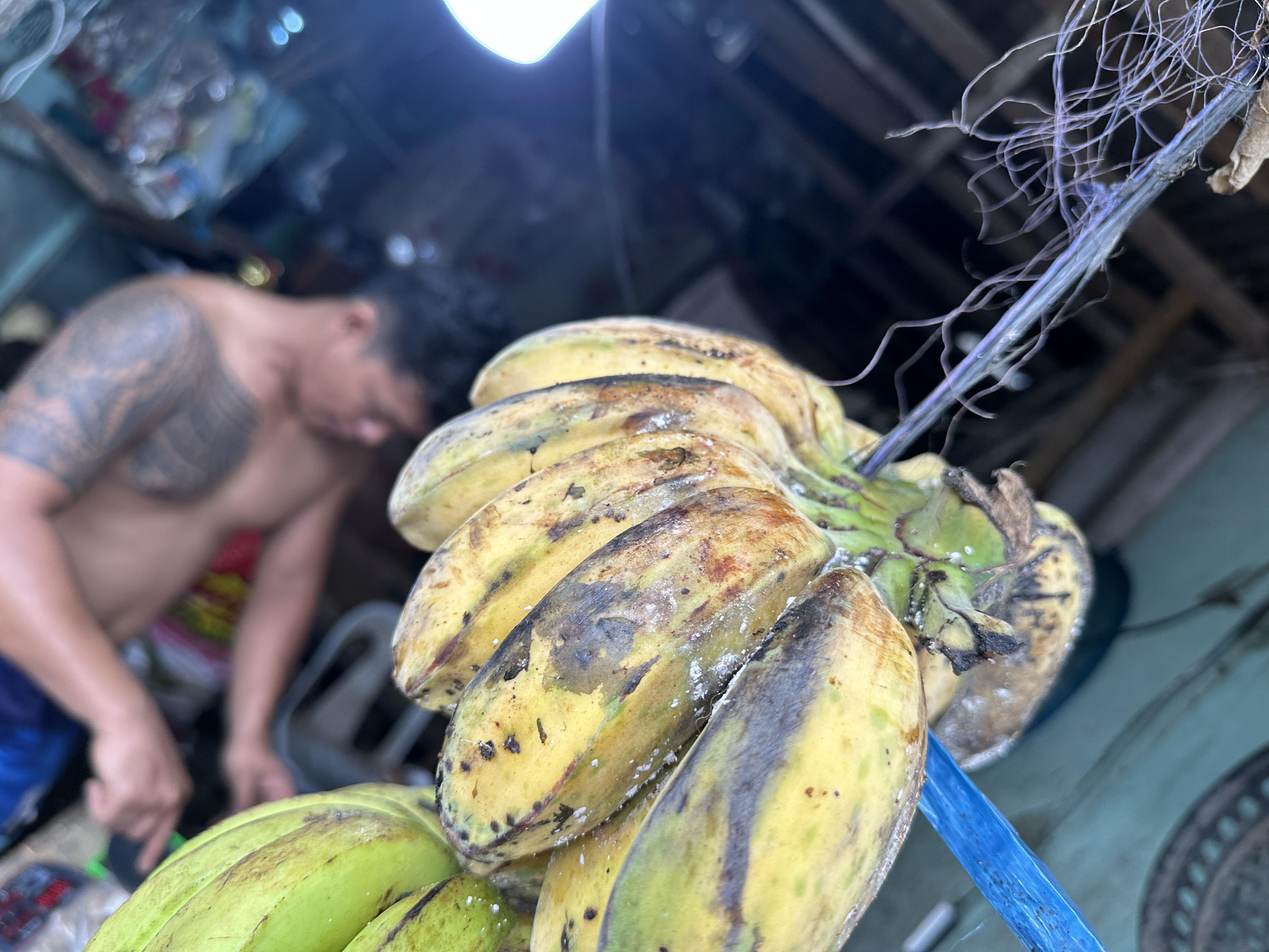underripe: (389, 316, 932, 952)
